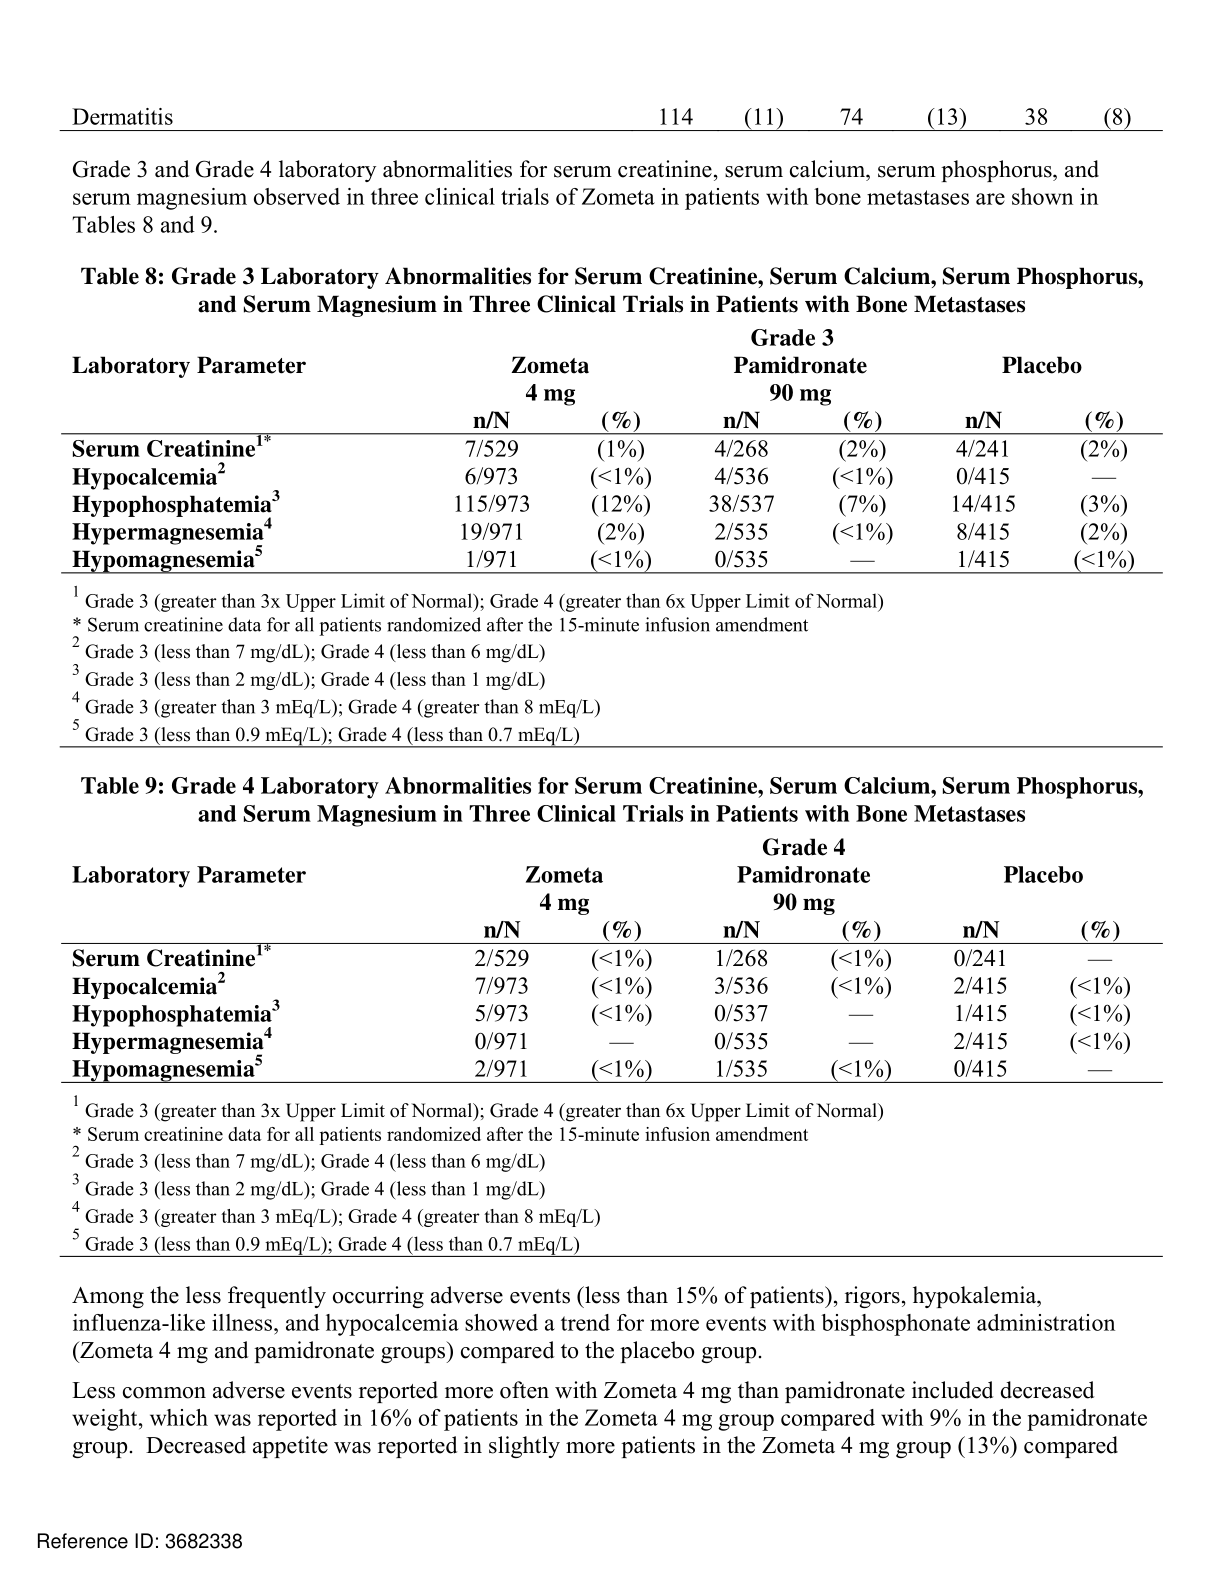partial_lined_merged_cells: (62, 832, 1173, 1088), (54, 323, 1169, 576)
